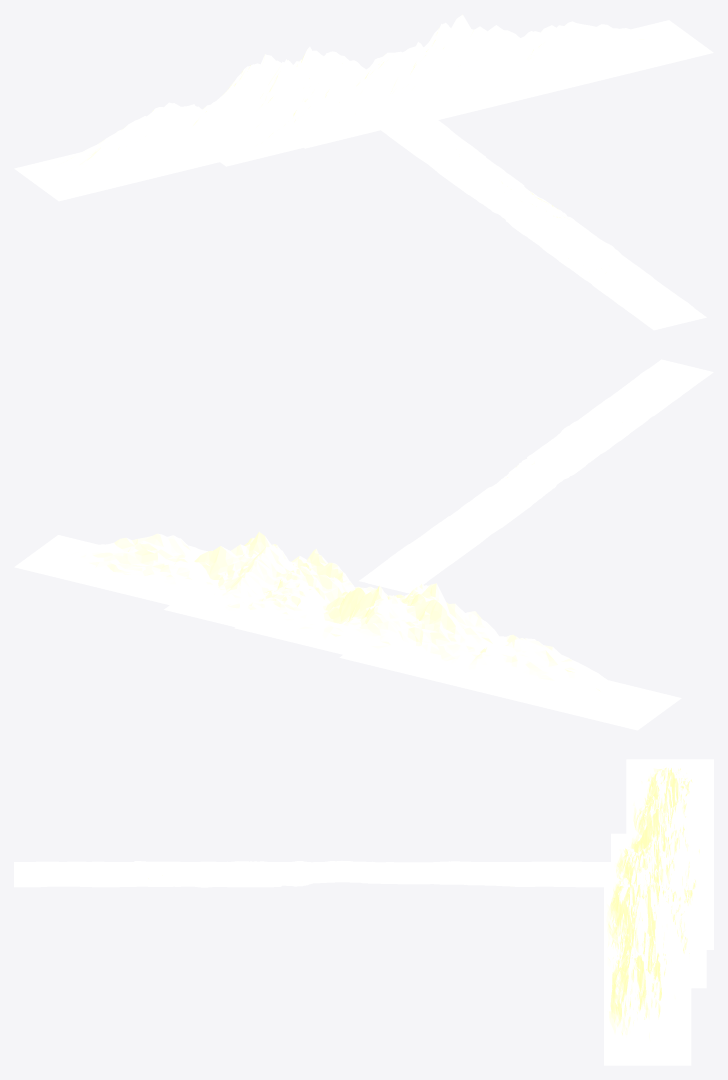
The model's file is dune2.gltf.
The picture shows the model from 3 angles, top to bottom: view 1: azimuth 30°, elevation 25°; view 2: azimuth 150°, elevation 25°; view 3: azimuth 270°, elevation 25°; orthographic projection. The views are drawn at different scales.
Visible parts, largest first — view 1: mountains, floor; view 2: mountains, floor; view 3: mountains, floor.
Boxes of the visible parts, <box> form: mountains: <box>14,14,713,201</box>; floor: <box>347,93,706,330</box>; mountains: <box>14,531,681,730</box>; floor: <box>359,359,713,593</box>; mountains: <box>604,759,713,1065</box>; floor: <box>14,861,613,887</box>.
Bounding box in the file's own units: 993 × 113 × 959.
